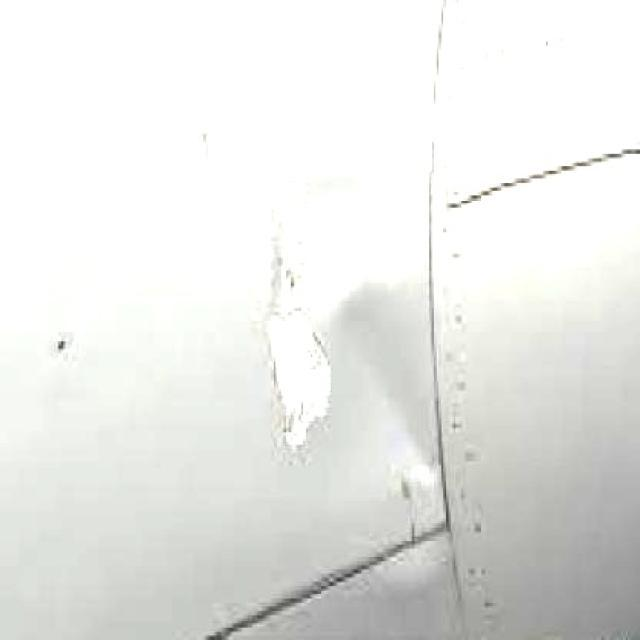dent: (326, 280, 442, 491), (244, 232, 338, 464)
